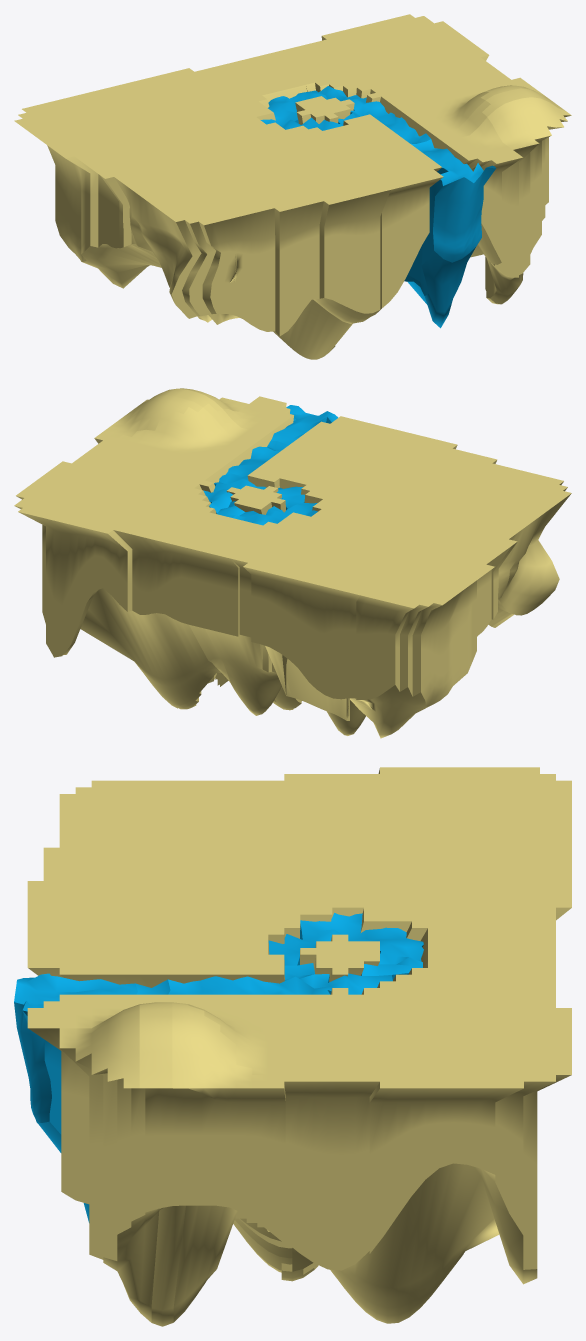
Rendered from ile été.FBX.
3 renders of one model, top to bottom at view 1: azimuth 30°, elevation 25°; view 2: azimuth 150°, elevation 25°; view 3: azimuth 270°, elevation 25°, orthographic. The views are drawn at different scales.
Visible parts, largest first — view 1: Ile été; view 2: Ile été; view 3: Ile été.
Part boxes in pixels (x1=…): Ile été: x1=14, y1=14, x2=571, y2=359; Ile été: x1=14, y1=388, x2=571, y2=738; Ile été: x1=14, y1=767, x2=571, y2=1326.
Bounding box in the file's own units: 490 × 267 × 360.
